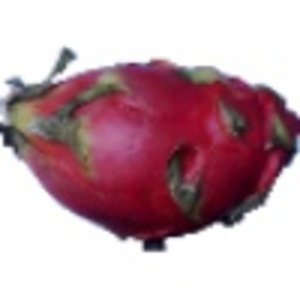pitaia: (1, 47, 300, 252)
